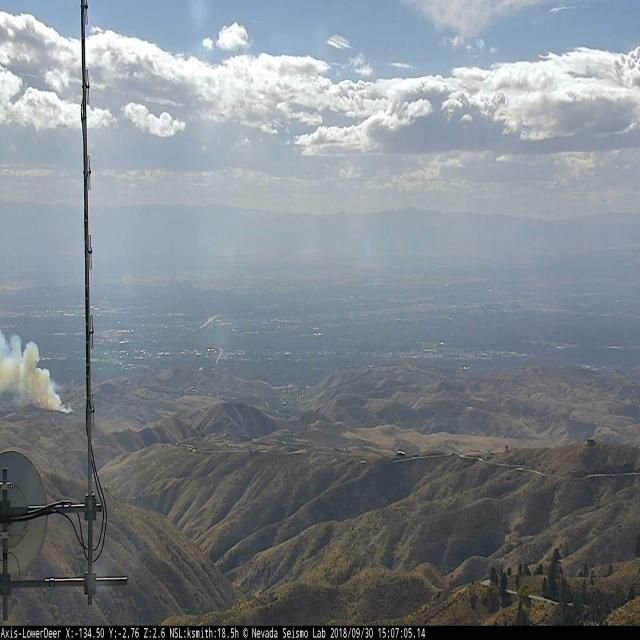smoke: (0, 322, 76, 414)
